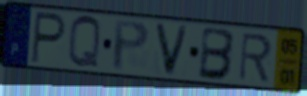B: (197, 25, 238, 82)
P: (29, 9, 68, 67), (111, 19, 152, 73)
Q: (66, 14, 103, 71)
R: (238, 31, 274, 84)
V: (153, 21, 192, 79)
